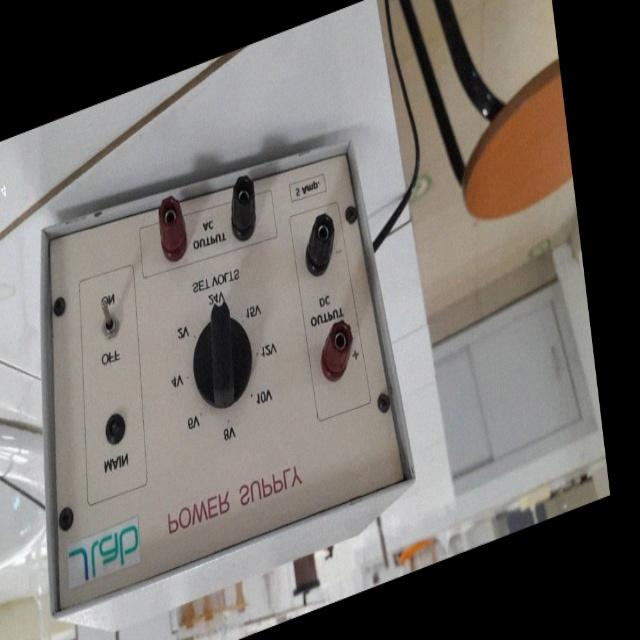Power Supply: (1, 108, 422, 640)
